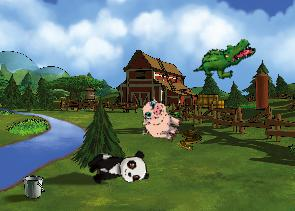crocodile: (191, 25, 258, 93)
panda: (86, 149, 149, 187)
pig: (134, 95, 187, 146)
